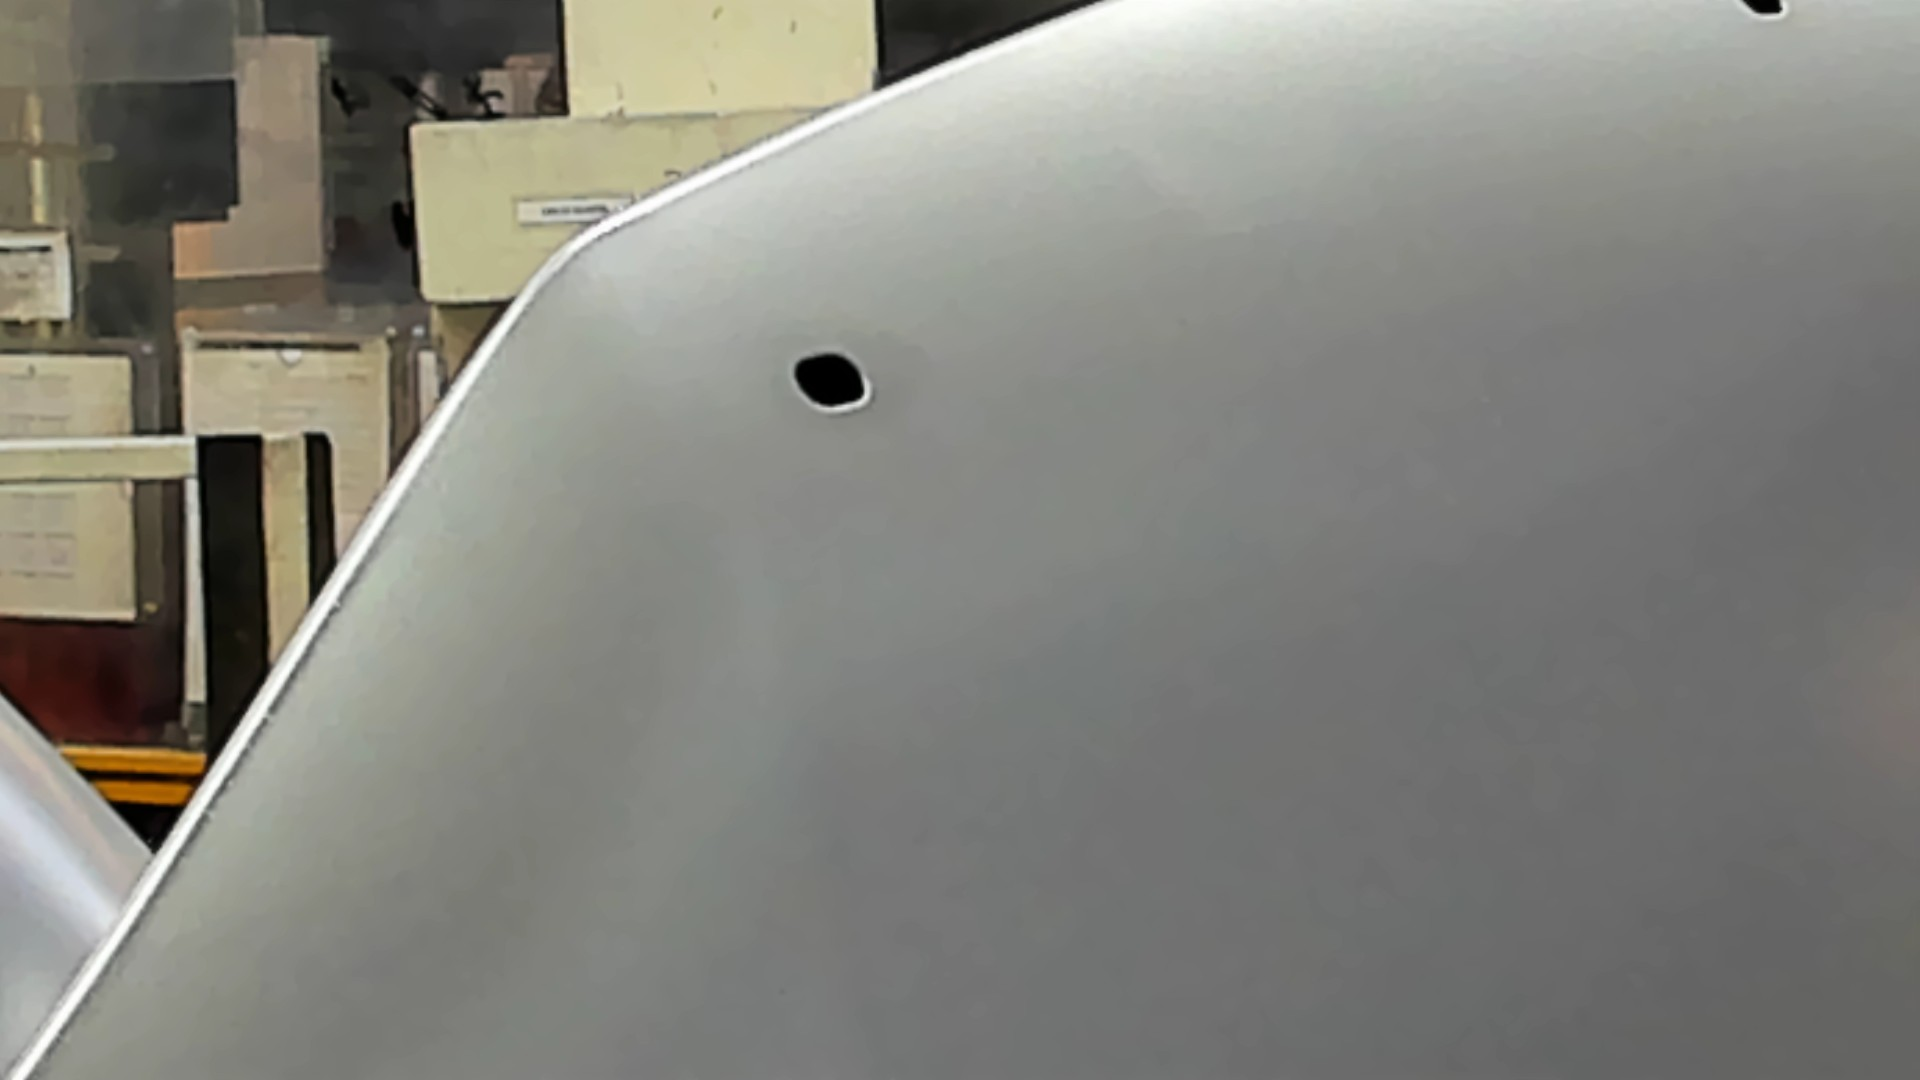amorfo: (789, 349, 876, 419), (1733, 1, 1791, 22)
